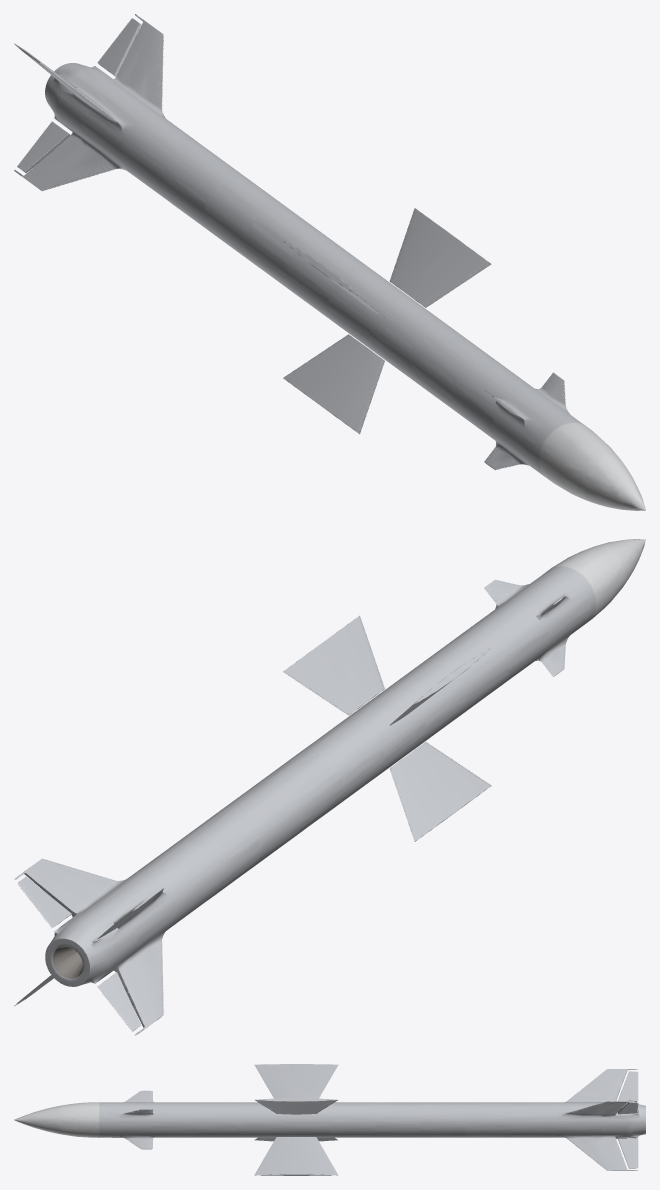
The picture shows the model from 3 angles, top to bottom: view 1: azimuth 30°, elevation 25°; view 2: azimuth 150°, elevation 25°; view 3: azimuth 270°, elevation 25°; orthographic projection. The views are drawn at different scales.
Visible parts, largest first — view 1: airframe, fsim:fin:78490819:1|elevator+aileron:-1+rudder:1@-20,20, fsim:fin:1039161249:1|elevator+aileron:1+rudder:1@-20,20, fsim:fin:1840229509:1|aileron, fsim:fin:2220773358:-1|aileron; view 2: airframe, fsim:fin:78490819:1|elevator+aileron:-1+rudder:1@-20,20, fsim:fin:1039161249:1|elevator+aileron:1+rudder:1@-20,20, fsim:fin:1840229509:1|aileron, fsim:fin:2220773358:-1|aileron; view 3: airframe, fsim:fin:432374493:1|elevator+aileron:1+rudder:-1@-20,20, fsim:fin:2245752368:1|elevator+aileron:-1+rudder:-1@-20,20, fsim:fin:1039161249:1|elevator+aileron:1+rudder:1@-20,20, fsim:fin:1553608011:1|aileron, fsim:fin:3746655808:-1|aileron, fsim:fin:1840229509:1|aileron.
Boxes of the visible parts, x1,y1,x2,y2 form: airframe: (14, 14, 645, 510); fsim:fin:78490819:1|elevator+aileron:-1+rudder:1@-20,20: (283, 334, 384, 434); fsim:fin:1039161249:1|elevator+aileron:1+rudder:1@-20,20: (389, 208, 491, 307); fsim:fin:1840229509:1|aileron: (97, 18, 141, 76); fsim:fin:2220773358:-1|aileron: (17, 121, 70, 172); airframe: (14, 539, 645, 1035); fsim:fin:78490819:1|elevator+aileron:-1+rudder:1@-20,20: (389, 742, 491, 841); fsim:fin:1039161249:1|elevator+aileron:1+rudder:1@-20,20: (283, 615, 384, 715); fsim:fin:1840229509:1|aileron: (17, 876, 71, 927); fsim:fin:2220773358:-1|aileron: (97, 972, 141, 1031); airframe: (14, 1069, 645, 1170); fsim:fin:432374493:1|elevator+aileron:1+rudder:-1@-20,20: (254, 1137, 337, 1175); fsim:fin:2245752368:1|elevator+aileron:-1+rudder:-1@-20,20: (254, 1064, 338, 1098); fsim:fin:1039161249:1|elevator+aileron:1+rudder:1@-20,20: (254, 1098, 337, 1114); fsim:fin:1553608011:1|aileron: (618, 1138, 638, 1168); fsim:fin:3746655808:-1|aileron: (618, 1071, 638, 1101); fsim:fin:1840229509:1|aileron: (618, 1102, 638, 1114).
Size of the model in its own units: 0.5541 by 0.5537 by 4.08.
3 materials, 1 textured.
